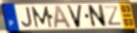A: (53, 5, 73, 29)
J: (20, 6, 33, 28)
M: (31, 6, 53, 29)
N: (87, 4, 108, 28)
V: (65, 4, 84, 29)
Z: (103, 5, 124, 27)
